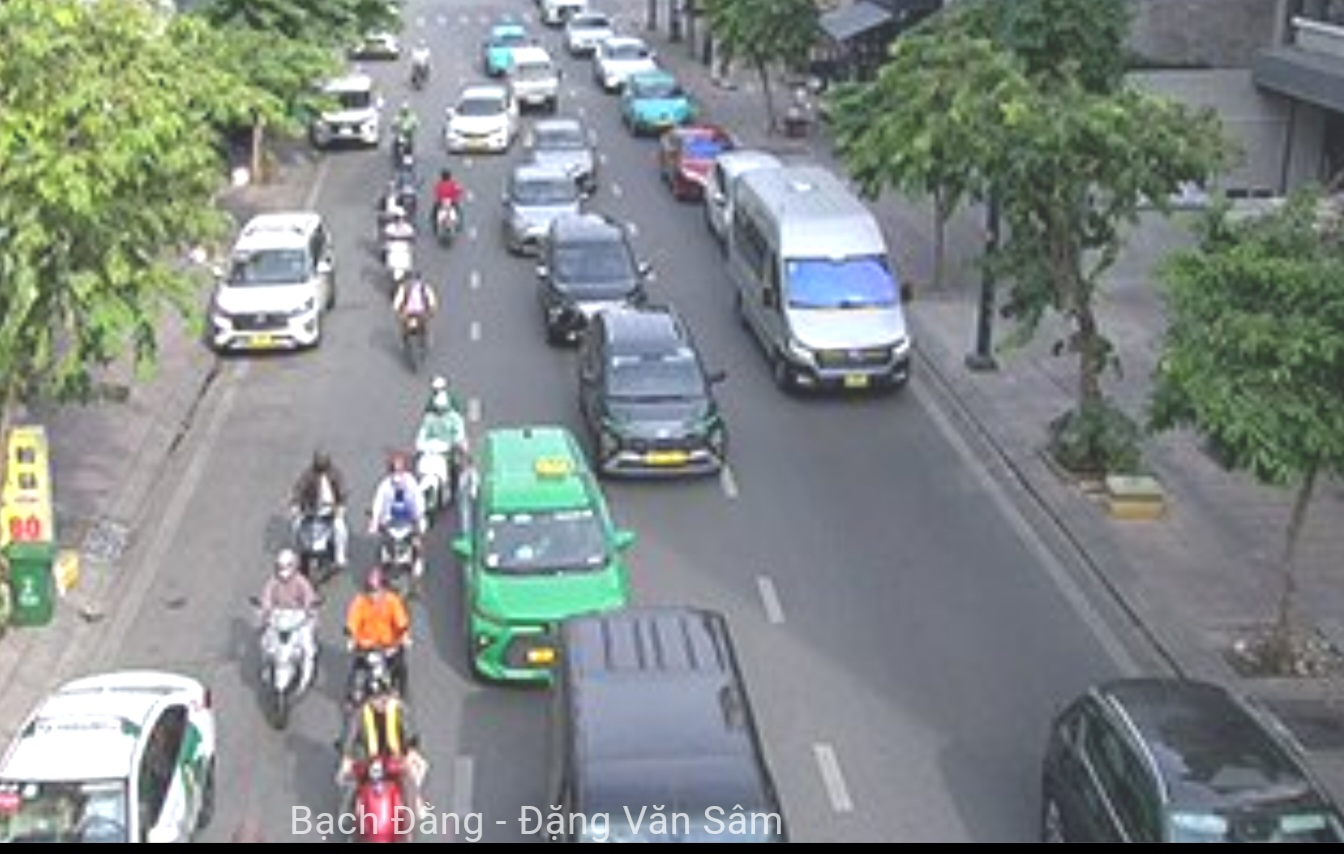car: (551, 621, 772, 812), (10, 666, 228, 854), (735, 170, 910, 398), (462, 423, 619, 650), (587, 311, 733, 483), (209, 206, 340, 356), (538, 215, 644, 336), (509, 166, 586, 250), (660, 128, 744, 199), (313, 75, 385, 153), (445, 83, 517, 158), (527, 112, 603, 180), (630, 74, 692, 133), (594, 40, 663, 91), (511, 50, 565, 113)
